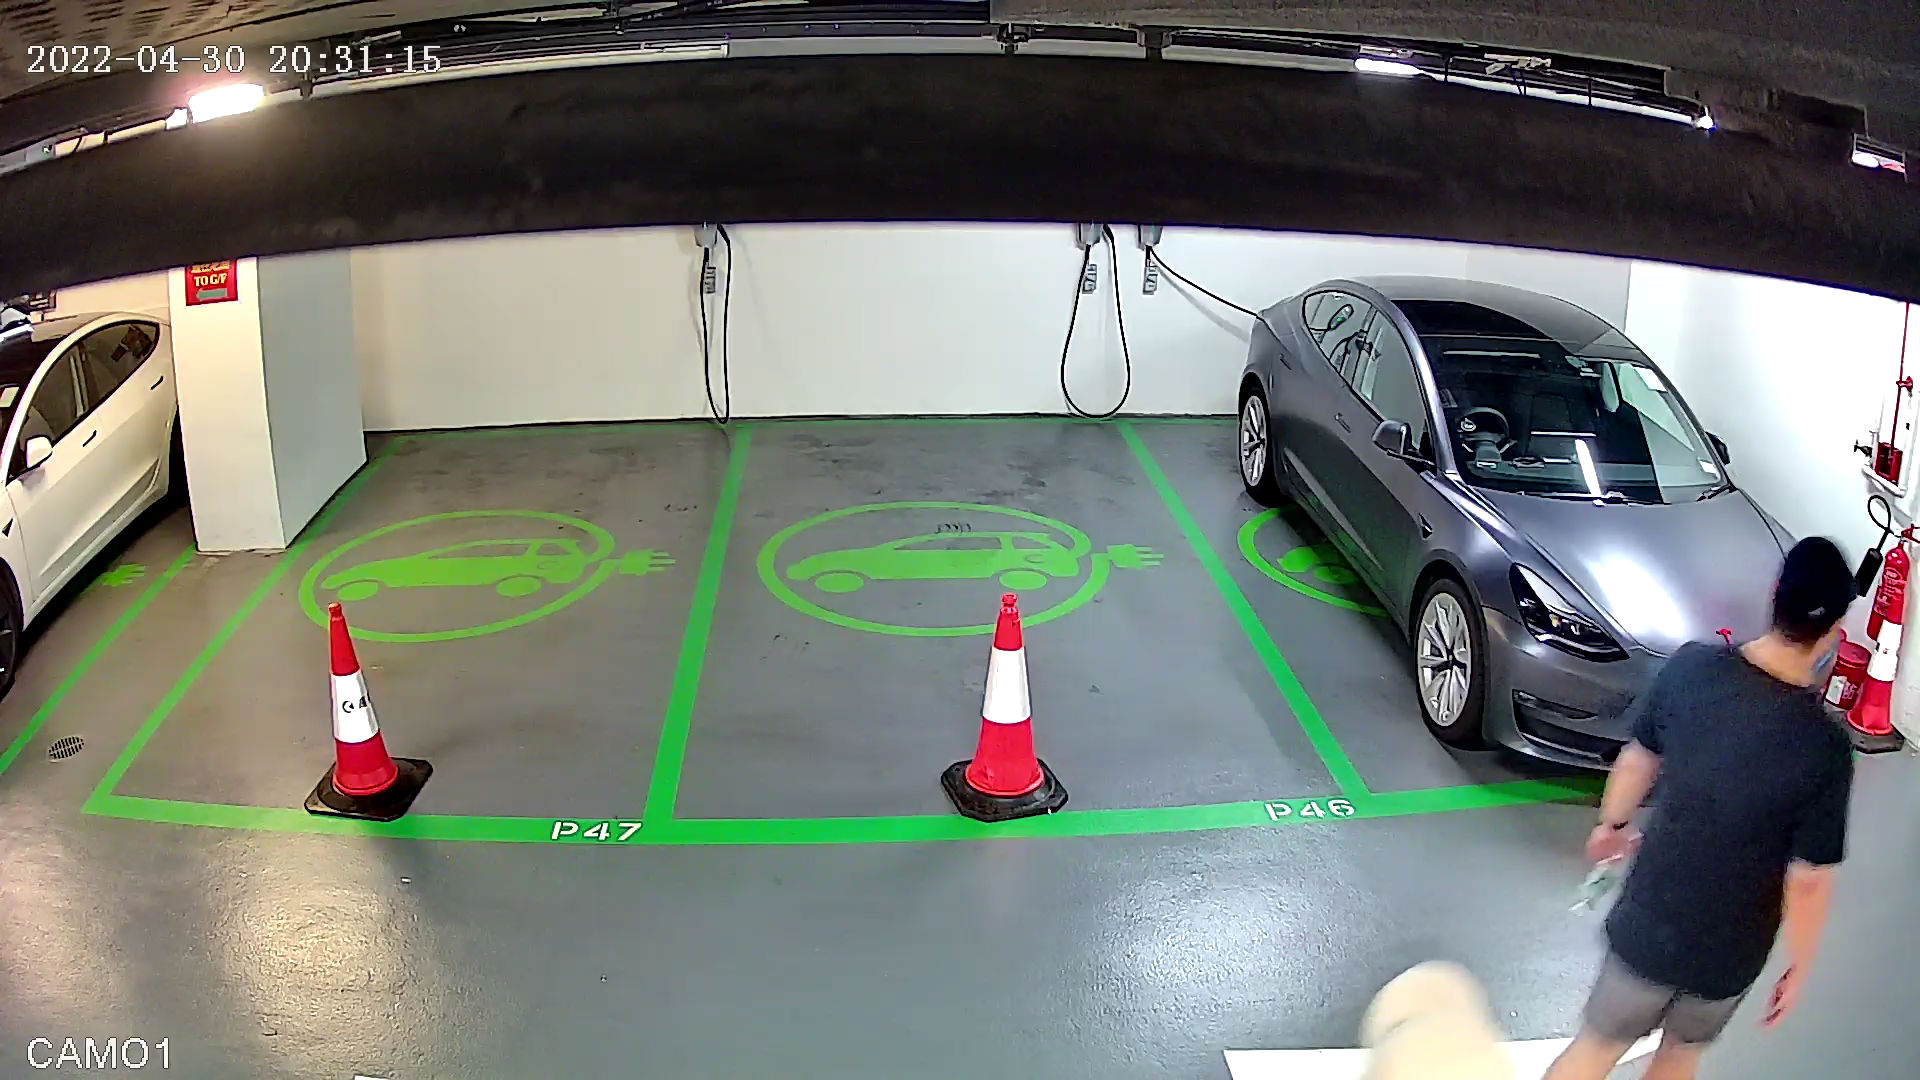car: (616, 367, 1399, 884), (1211, 258, 1888, 812), (62, 369, 758, 898)
